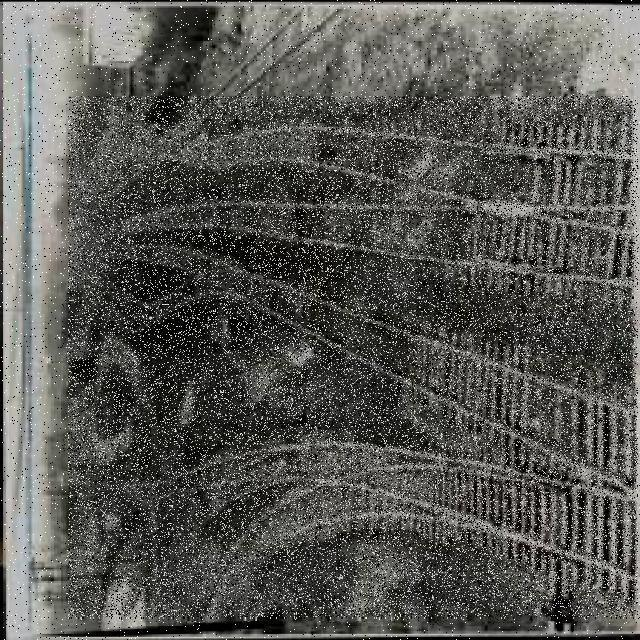rail: (69, 98, 639, 619)
